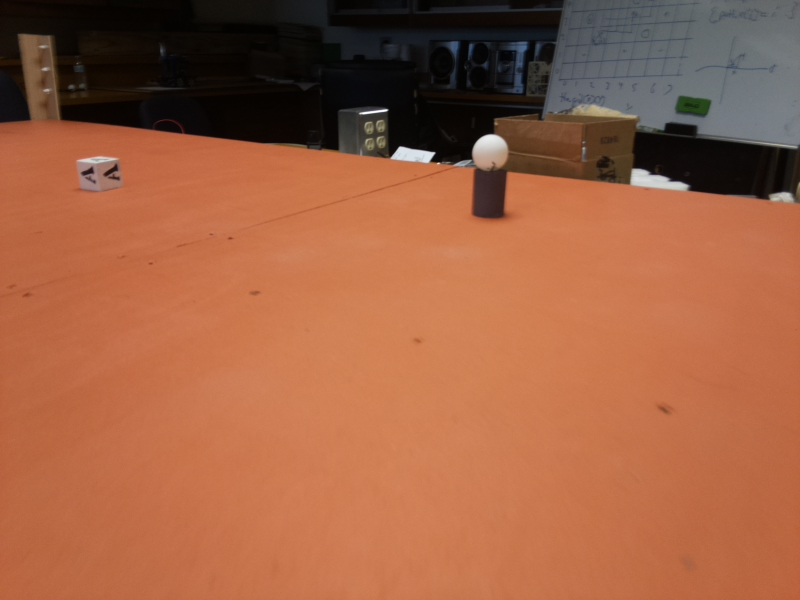blockA: (79, 153, 123, 193)
corner: (23, 34, 57, 123)
obstacle: (470, 136, 505, 223)
